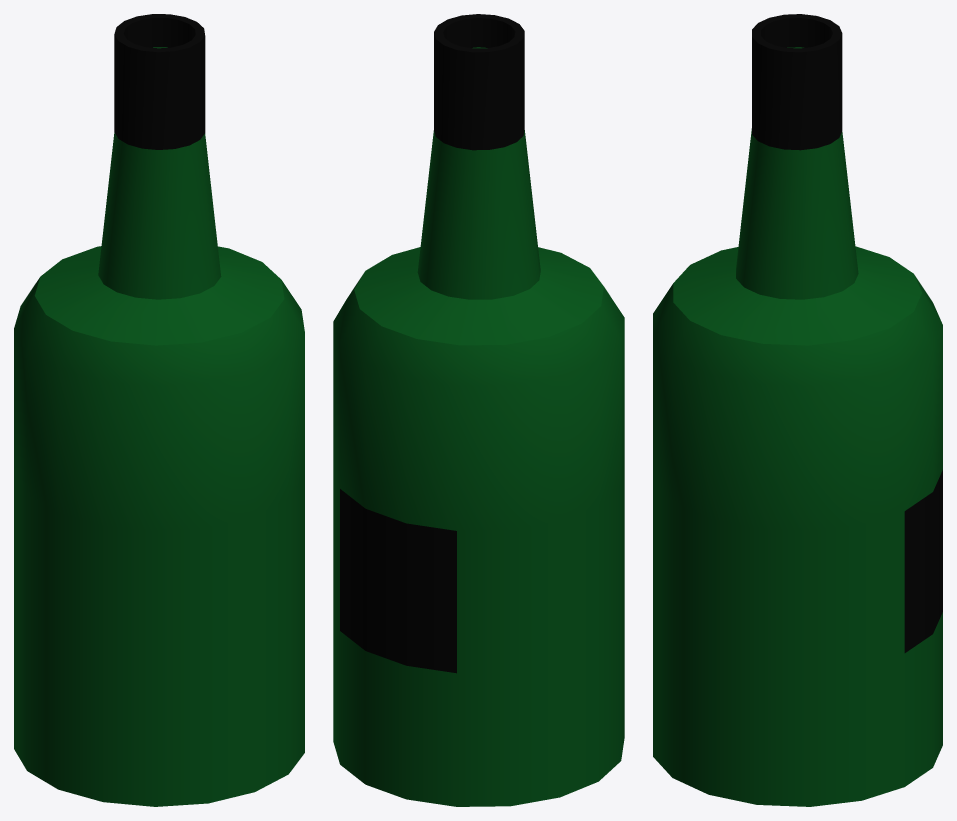
Rendered from Bottle.fbx.
3 renders of one model, left to right at view 1: azimuth 30°, elevation 25°; view 2: azimuth 150°, elevation 25°; view 3: azimuth 270°, elevation 25°, orthographic.
Parts seen in each view (by area): view 1: Cylinder.001; view 2: Cylinder.001; view 3: Cylinder.001.
Part boxes in pixels (bbox=[...]): Cylinder.001: bbox=[14, 14, 304, 806]; Cylinder.001: bbox=[333, 14, 624, 806]; Cylinder.001: bbox=[653, 14, 942, 806].
Size of the model in its own units: 27.4 by 73.97 by 27.28.
